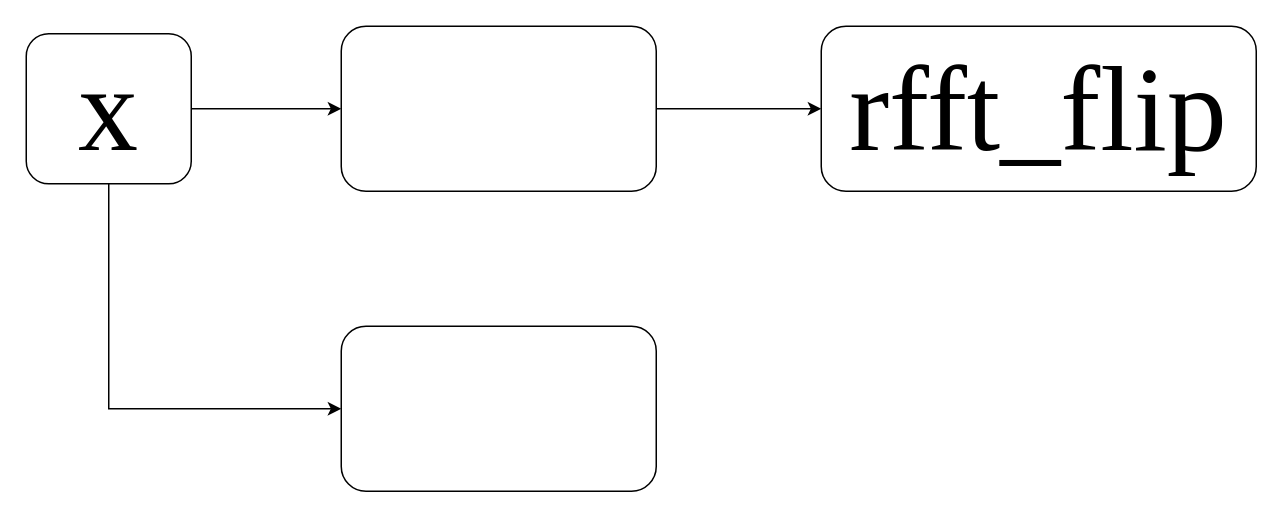
Some shapes in this 1283 by 518 pixel diagram are drawn without their labels. The centre of each missing label's shape, as x and y in pixels:
GRU: pixel 498 408
Rev: pixel 498 108
